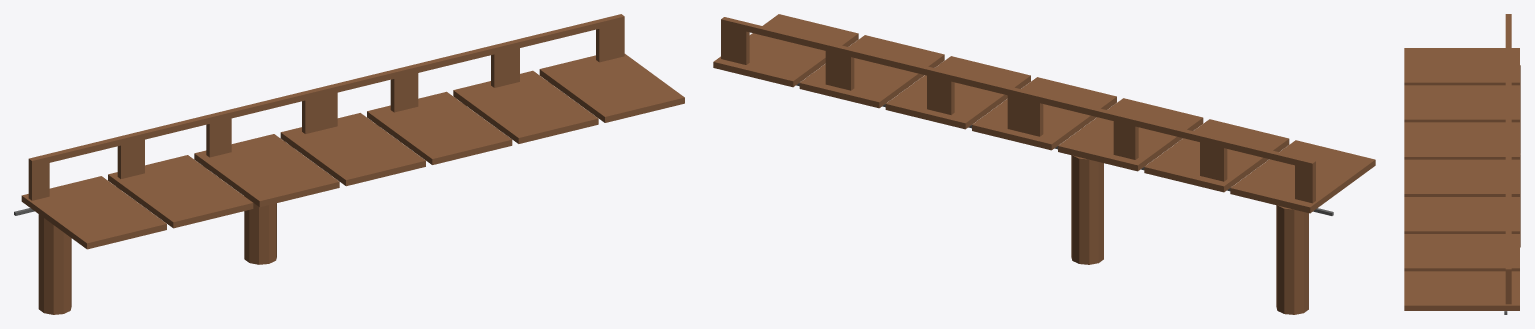
Rendered from pier.glb.
The picture shows the model from 3 angles, left to right: view 1: azimuth 30°, elevation 25°; view 2: azimuth 150°, elevation 25°; view 3: azimuth 270°, elevation 25°; orthographic projection. The views are drawn at different scales.
Parts seen in each view (by area): view 1: Cube, Cube.002, Cylinder, Cylinder.002; view 2: Cube, Cube.002, Cylinder, Cylinder.002; view 3: Cube, Cube.002.
Part boxes in pixels (left/top/right/bottom): Cube: left=21, top=54, right=684, bottom=249; Cube.002: left=28, top=14, right=624, bottom=200; Cylinder: left=38, top=214, right=71, bottom=314; Cylinder.002: left=244, top=197, right=276, bottom=264; Cube: left=713, top=14, right=1375, bottom=213; Cube.002: left=721, top=17, right=1315, bottom=203; Cylinder: left=1276, top=205, right=1308, bottom=314; Cylinder.002: left=1071, top=155, right=1103, bottom=264; Cube: left=1404, top=48, right=1519, bottom=310; Cube.002: left=1505, top=14, right=1511, bottom=304.
Bounding box in the file's own units: 42.14 × 10.03 × 7.84.
